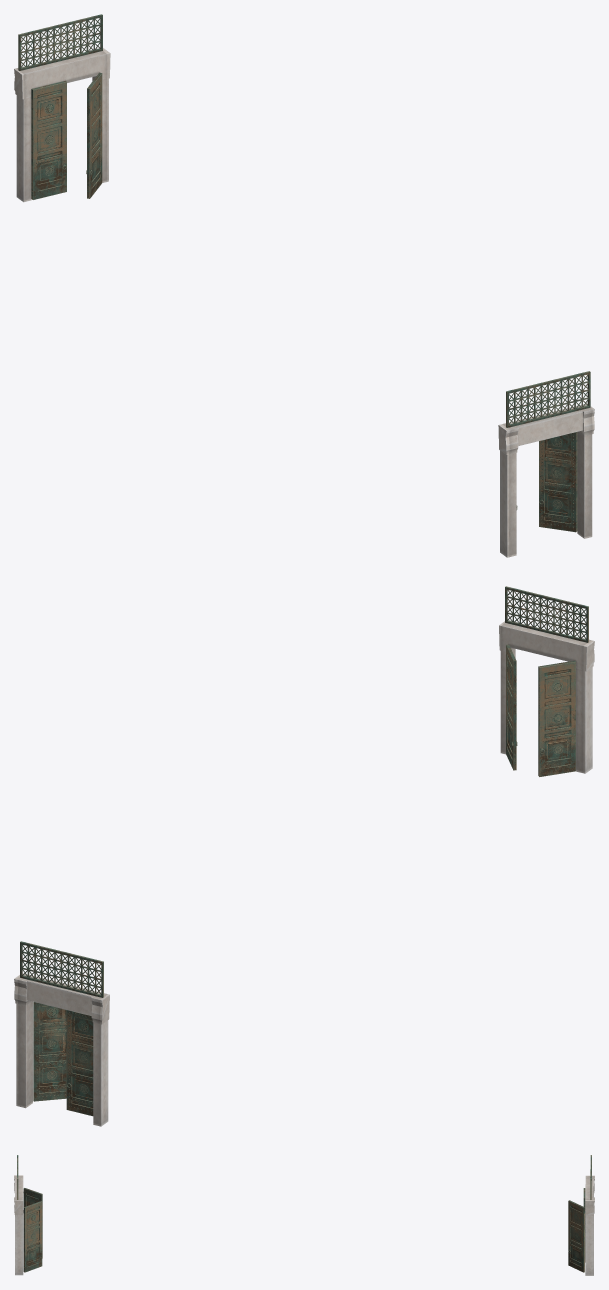
File: ParthenonDoors.glb
3 views of the same model, one above another, from view 1: azimuth 30°, elevation 25°; view 2: azimuth 150°, elevation 25°; view 3: azimuth 270°, elevation 25° (orthographic). The views are drawn at different scales.
Visible parts, largest first — view 1: TreasuryRightDoor, SanctuaryDoorArch, TreasuryDoorArch, SanctuaryRightDoor, TreasuryRoomGrate, SanctuaryGrate; view 2: TreasuryRightDoor, TreasuryDoorArch, SanctuaryRightDoor, SanctuaryDoorArch, TreasuryRoomGrate, SanctuaryGrate; view 3: SanctuaryRightDoor, TreasuryRightDoor, TreasuryDoorArch, SanctuaryDoorArch.
Part boxes in pixels (box(x1,y1,x2,y2)): TreasuryRightDoor: box(31, 72, 102, 199); SanctuaryDoorArch: box(498, 403, 594, 557); TreasuryDoorArch: box(14, 48, 110, 202); SanctuaryRightDoor: box(516, 432, 577, 532); TreasuryRoomGrate: box(18, 14, 102, 70); SanctuaryGrate: box(506, 371, 590, 427); TreasuryRightDoor: box(33, 1002, 93, 1116); TreasuryDoorArch: box(14, 973, 109, 1126); SanctuaryRightDoor: box(506, 644, 575, 776); SanctuaryDoorArch: box(499, 620, 594, 773); TreasuryRoomGrate: box(20, 941, 103, 997); SanctuaryGrate: box(505, 586, 588, 642); SanctuaryRightDoor: box(23, 1188, 42, 1272); TreasuryRightDoor: box(568, 1188, 585, 1272); TreasuryDoorArch: box(585, 1175, 594, 1275); SanctuaryDoorArch: box(14, 1175, 23, 1275).
Bounding box in the file's own units: 4.88 × 8.48 × 46.35.
3 materials, 3 textured.
